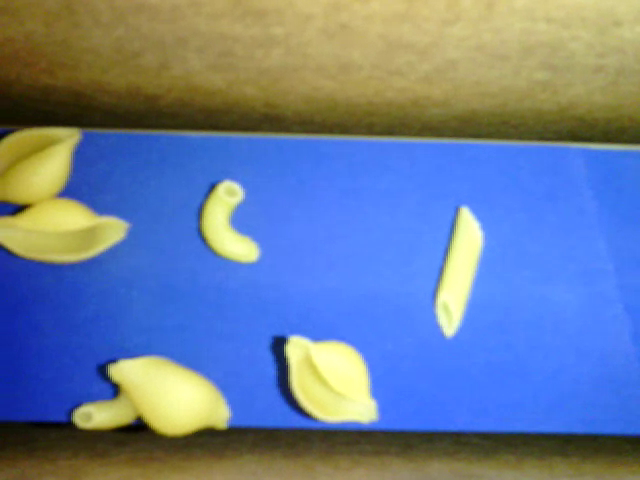elbow: (198, 177, 260, 263), (72, 389, 139, 429)
penne: (433, 205, 486, 339)
shell: (107, 354, 231, 435), (284, 334, 378, 421), (1, 198, 131, 260), (1, 126, 84, 204)
